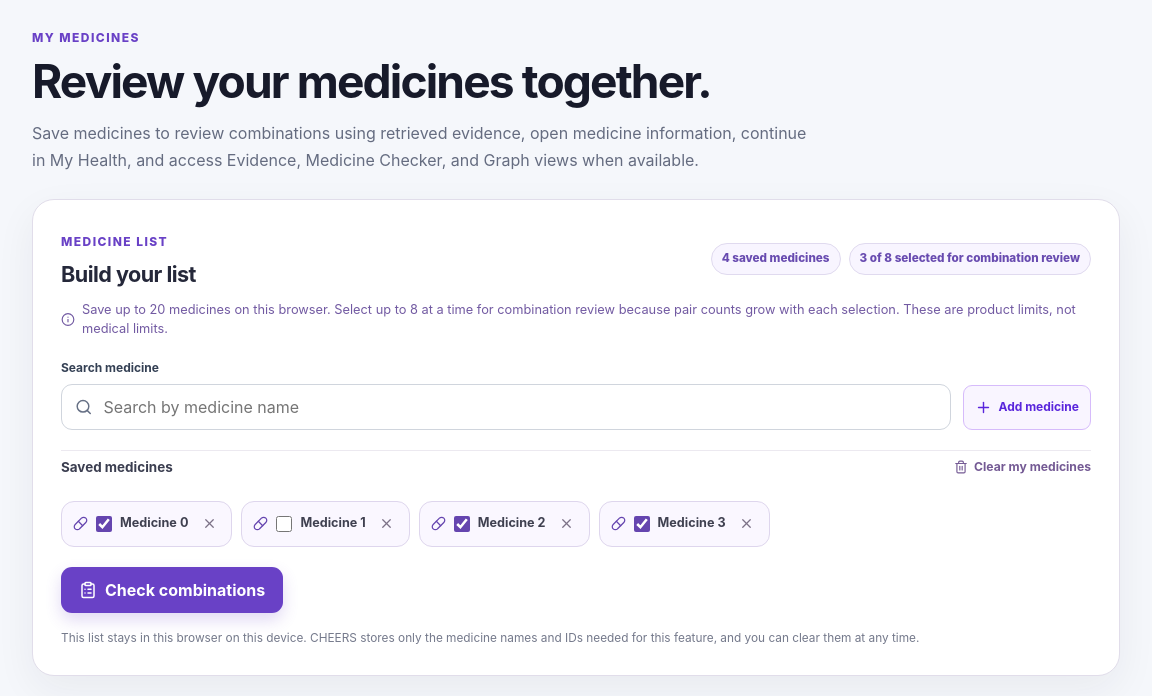
My Medicines › generates combinations from only the medicines selected for review
Click the button "Check combinations". click: click(172, 590)
box: [61,567,283,613]
(page scrolled)
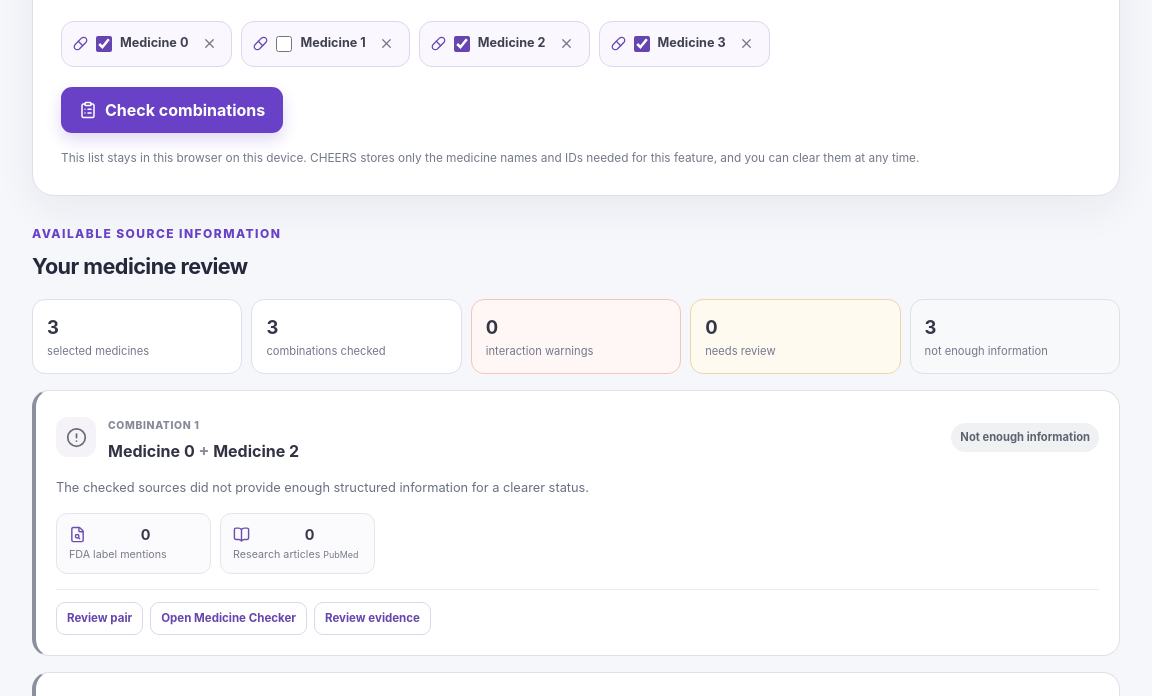
Now the text "selected medicines" shows "3", box [47,316,59,338]
